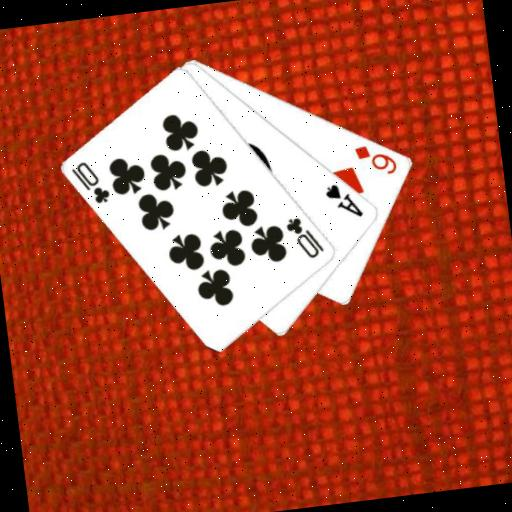10C: (67, 155, 113, 208), (282, 212, 327, 264)
6D: (351, 138, 400, 180)
AS: (322, 178, 367, 223)
